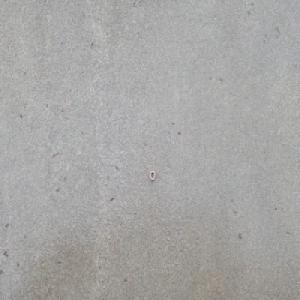Nut: (149, 169, 155, 181)
